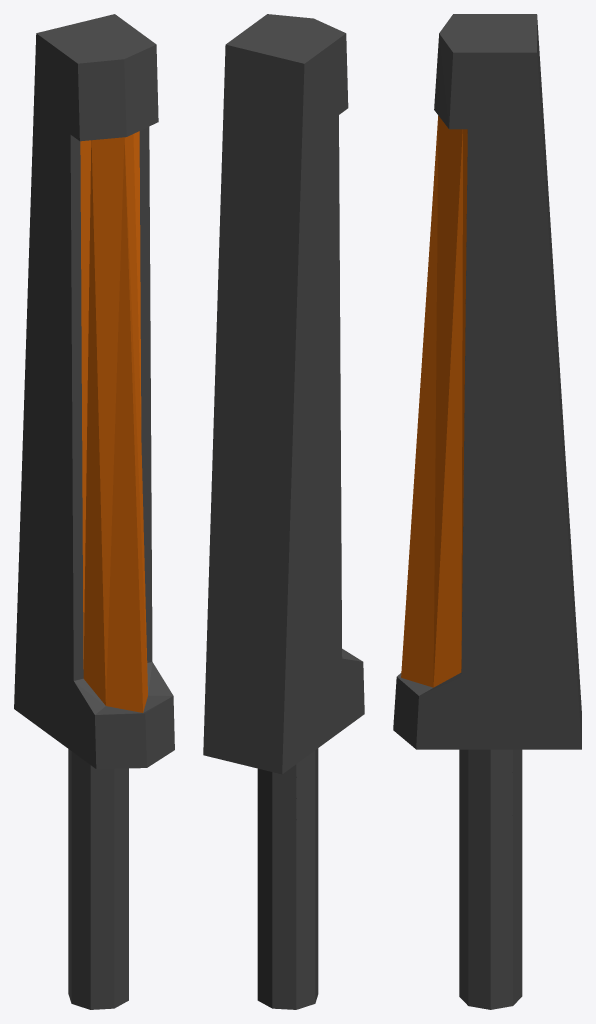
The model's file is secondsealedsword.obj.
The picture shows the model from 3 angles, left to right: view 1: azimuth 30°, elevation 25°; view 2: azimuth 150°, elevation 25°; view 3: azimuth 270°, elevation 25°; orthographic projection.
Visible parts, largest first — view 1: Cube; view 2: Cube; view 3: Cube.
Boxes of the visible parts, <box> form: Cube: <box>14,14,174,1009</box>; Cube: <box>203,14,364,1009</box>; Cube: <box>393,14,581,1009</box>.
Bounding box in the file's own units: 1 × 11.66 × 2.07.
